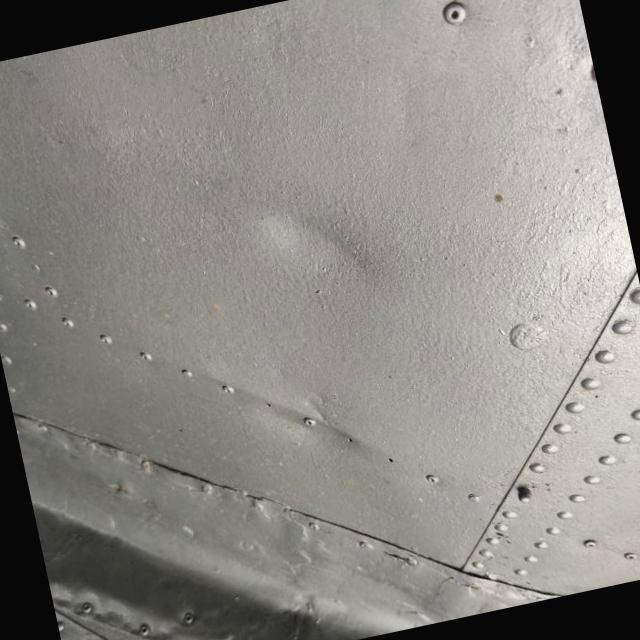dent: (202, 137, 436, 356)
